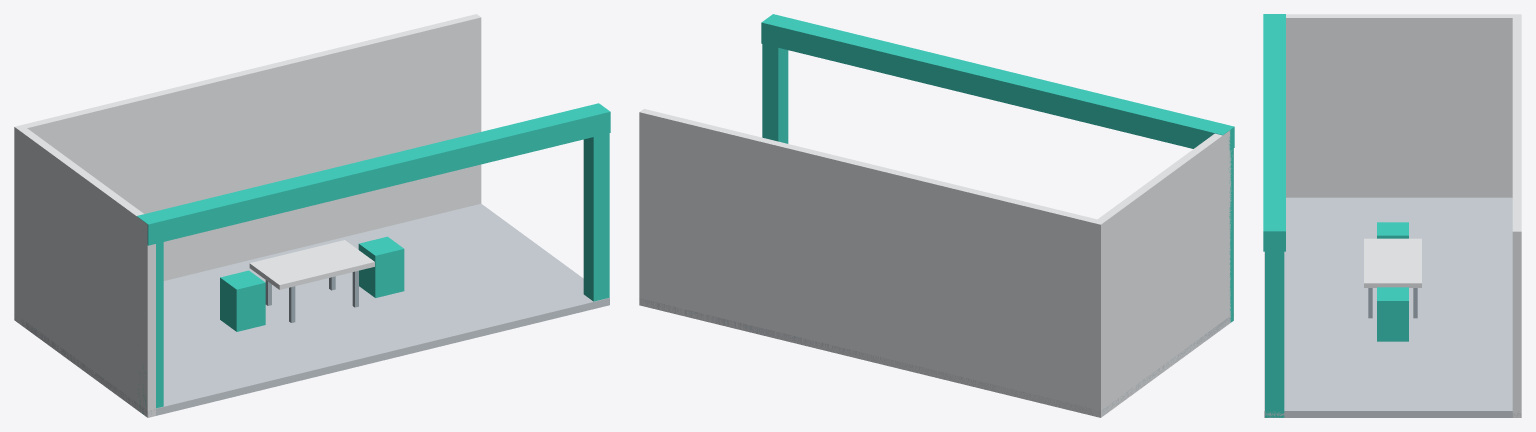
3 renders of one model, left to right at view 1: azimuth 30°, elevation 25°; view 2: azimuth 150°, elevation 25°; view 3: azimuth 270°, elevation 25°, orthographic. The views are drawn at different scales.
Parts seen in each view (by area): view 1: Exhibition Booth Concept; view 2: Exhibition Booth Concept; view 3: Exhibition Booth Concept.
Boxes of the visible parts, left/top/right/bottom form: Exhibition Booth Concept: left=14, top=14, right=610, bottom=417; Exhibition Booth Concept: left=639, top=14, right=1234, bottom=417; Exhibition Booth Concept: left=1263, top=14, right=1521, bottom=417.
Bounding box in the file's own units: 8 × 3.2 × 4.02.
